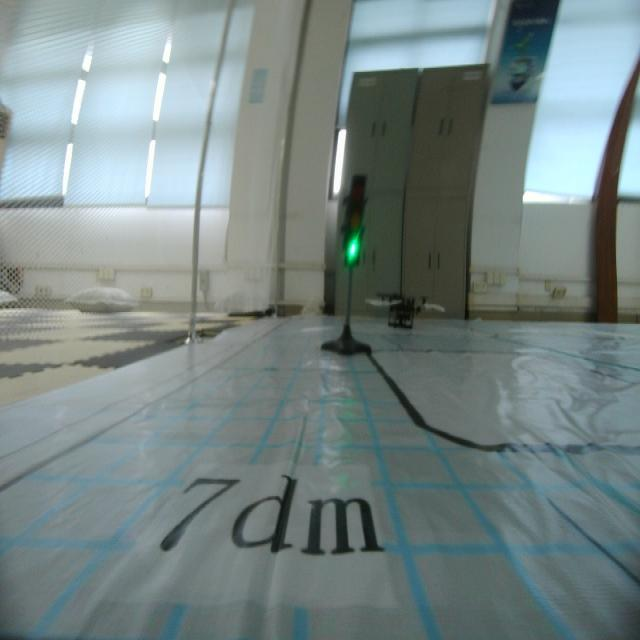green: (336, 174, 368, 268)
